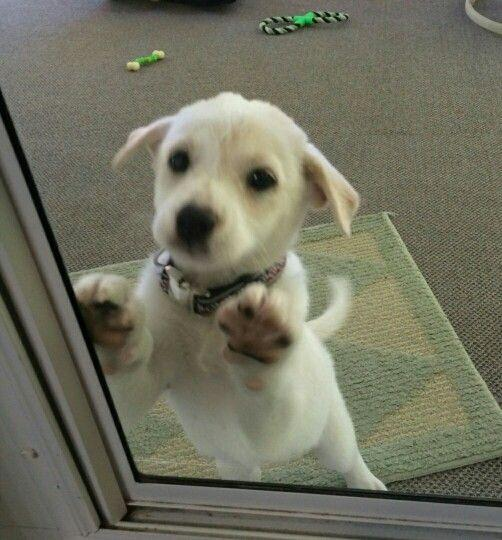puppy-dog: (73, 90, 390, 494)
